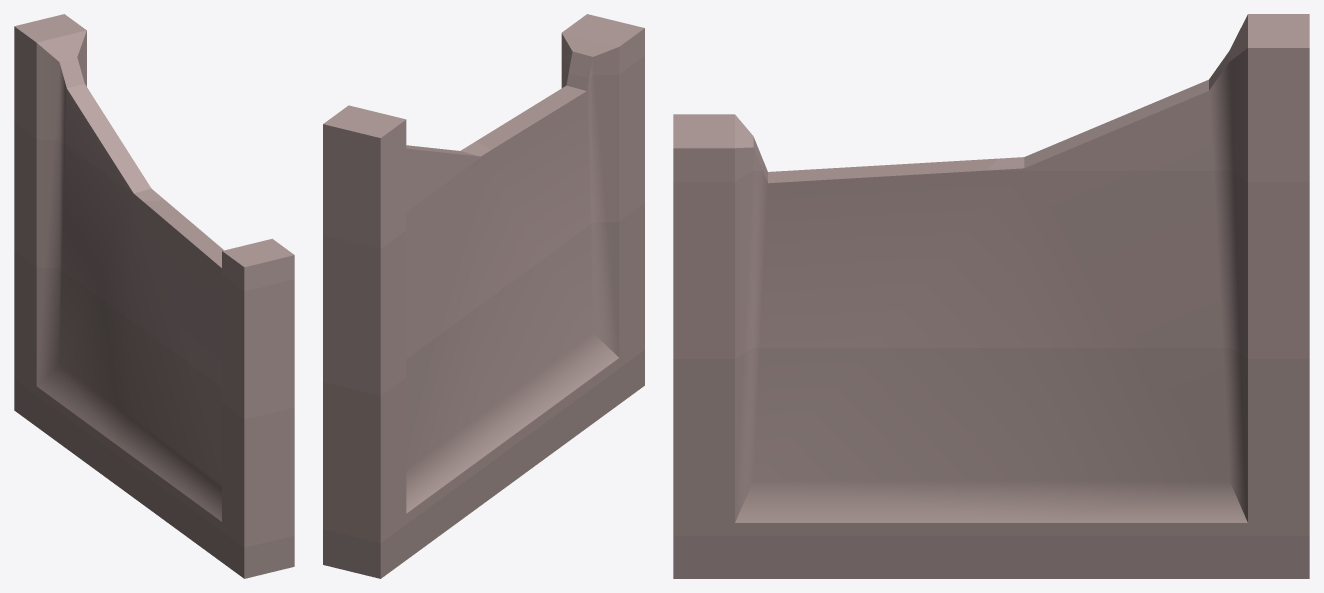
File: SM_Gravestone_01_LH.fbx
3 renders of one model, left to right at view 1: azimuth 30°, elevation 25°; view 2: azimuth 150°, elevation 25°; view 3: azimuth 270°, elevation 25°, orthographic. The views are drawn at different scales.
Parts seen in each view (by area): view 1: Gravestone_01_01; view 2: Gravestone_01_01; view 3: Gravestone_01_01.
Boxes of the visible parts, x1,y1,x2,y2 form: Gravestone_01_01: (14, 14, 294, 578); Gravestone_01_01: (323, 14, 644, 578); Gravestone_01_01: (673, 14, 1309, 578).
Size of the model in its own units: 15.2 by 111 by 121.
1 material, 1 textured.
